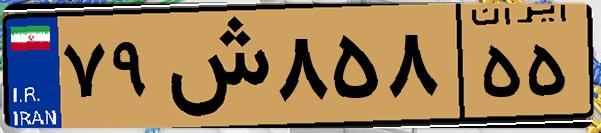5: (330, 28, 385, 110), (475, 38, 525, 113), (525, 38, 570, 115)
7: (57, 26, 110, 100)
8: (270, 28, 330, 110), (385, 28, 445, 110)
9: (110, 28, 158, 98)
ش: (158, 12, 270, 120)
